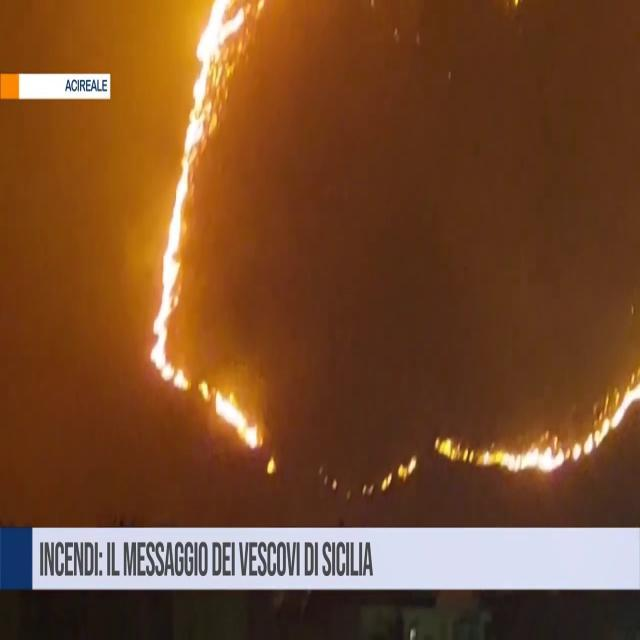Fire: (144, 1, 258, 386), (575, 304, 640, 467), (439, 425, 575, 474), (210, 376, 268, 455)
Smoke: (201, 2, 639, 410)
